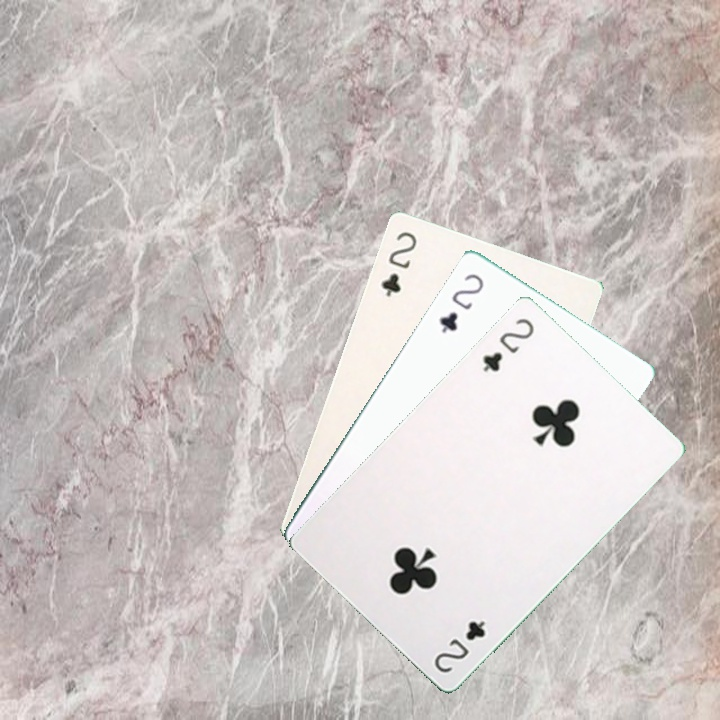2c: (478, 313, 537, 375), (434, 269, 487, 336), (430, 616, 488, 676), (377, 227, 420, 300)
